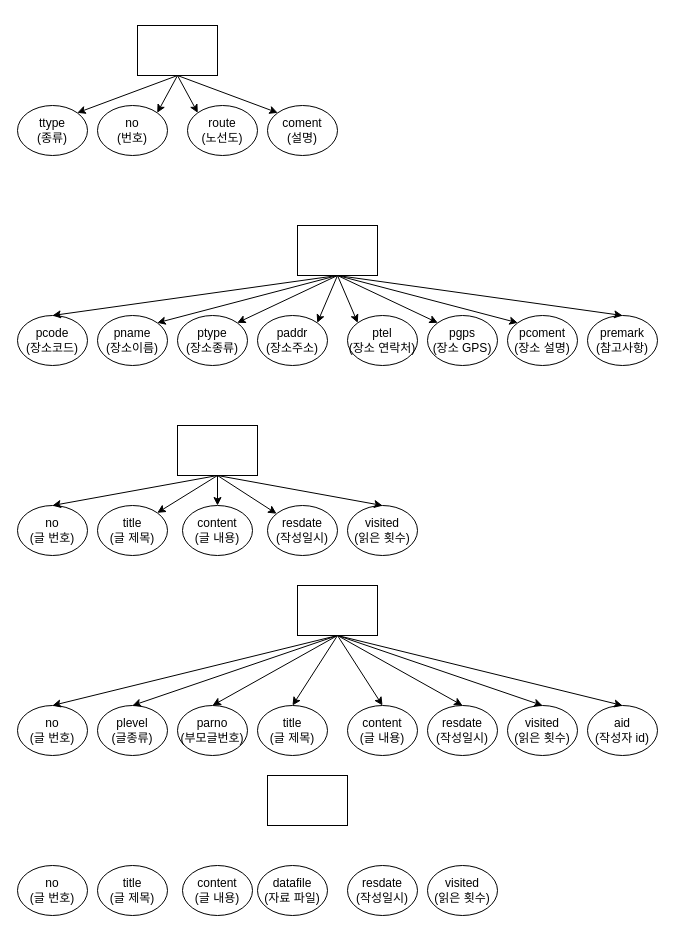
Some shapes in this 675 by 933 pixel diagram are drawn without their labels. Here are the shapes that lost their labels. From the top down, the centre of each, then its label:
At pixel 177 50: "traffic (교통편)".
At pixel 337 250: "guide (안내사항)".
At pixel 217 450: "notice (공지사항)".
At pixel 337 610: "qna (묻고 답하기)".
At pixel 307 800: "data (자료실)".
